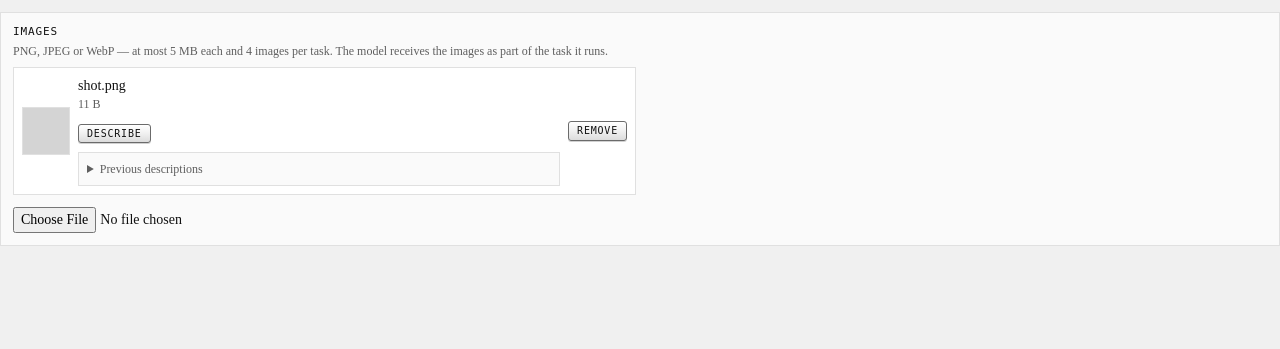
it: V26/L4 — Describe an attachment › posts the attachment id and renders the model sentence inline, labelled as model output
Expected: the button with aria-label "Remove shot.png" is shown, 568,121 -> 627,140
What coordinates should you click on to do the following:
click the button with aria-label "Describe shot.png"
I would click on:
 (114, 134)
Its box is 78,124 -> 151,143.
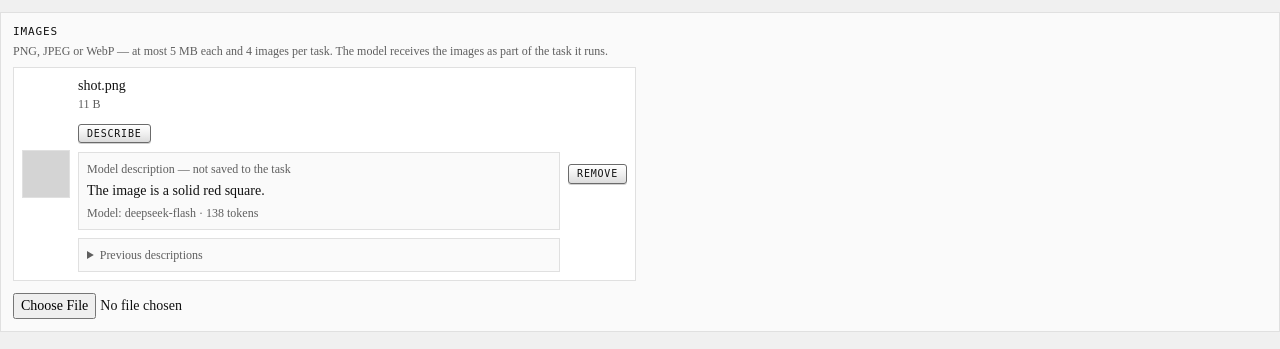
Now the message with test id "vision-description-11" shows "Model description — not saved to the task", box 87,162 -> 291,176
Now the message with test id "vision-description-11" shows "The image is a solid red square.", box 87,183 -> 265,198
Now the message with test id "vision-description-11" shows "Model: deepseek-flash", box 78,152 -> 560,230
